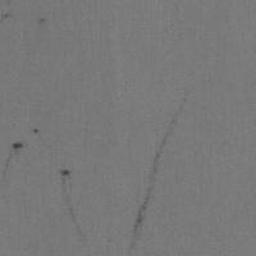Inclusion: (130, 185, 154, 249), (149, 127, 173, 182), (3, 141, 28, 177), (58, 168, 72, 192), (0, 11, 14, 23), (37, 17, 47, 29), (68, 206, 75, 222), (31, 128, 40, 134)
